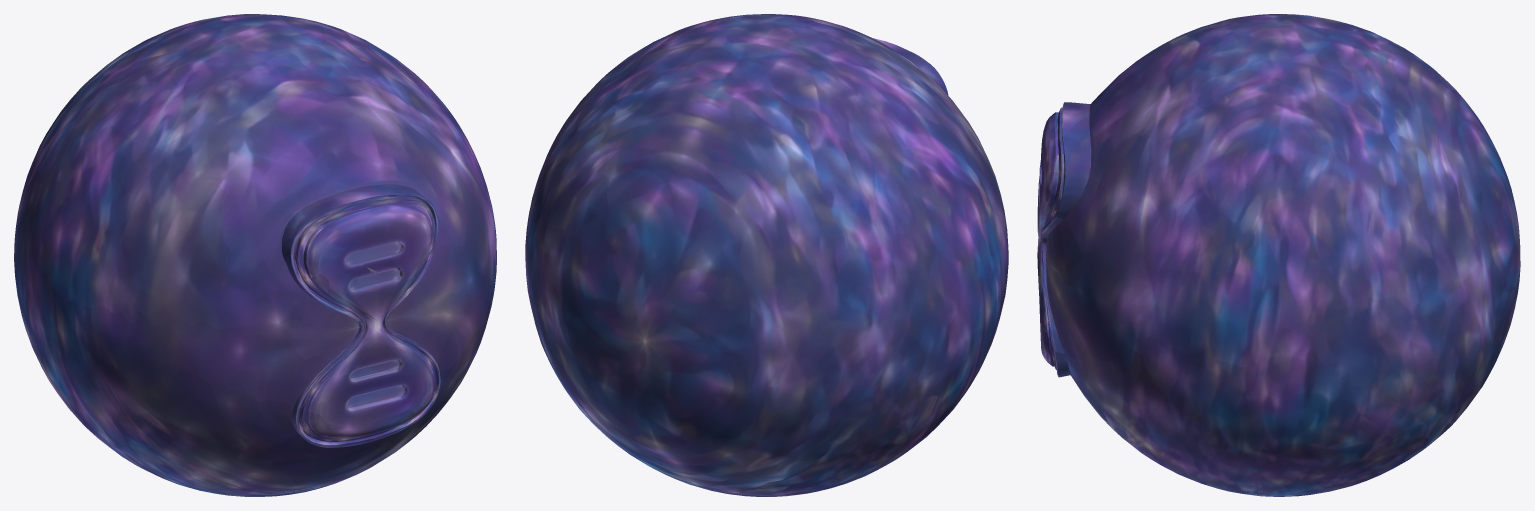
File: assistant-orb.glb
3 renders of one model, left to right at view 1: azimuth 30°, elevation 25°; view 2: azimuth 150°, elevation 25°; view 3: azimuth 270°, elevation 25°, orthographic.
Parts seen in each view (by area): view 1: output_unwrapped; view 2: output_unwrapped; view 3: output_unwrapped.
Boxes of the visible parts, box(x1,y1,x2,y2) form: output_unwrapped: box(14, 14, 496, 496); output_unwrapped: box(525, 14, 1008, 496); output_unwrapped: box(1037, 14, 1520, 496).
Bounding box in the file's own units: 1.9 × 1.9 × 1.9.
Materials: 1 (1 with a texture image).
